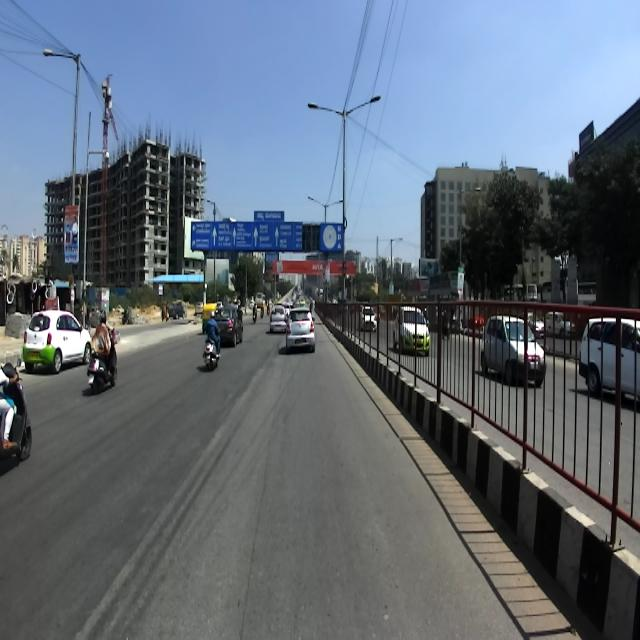car ahead at: (280, 306, 320, 355)
